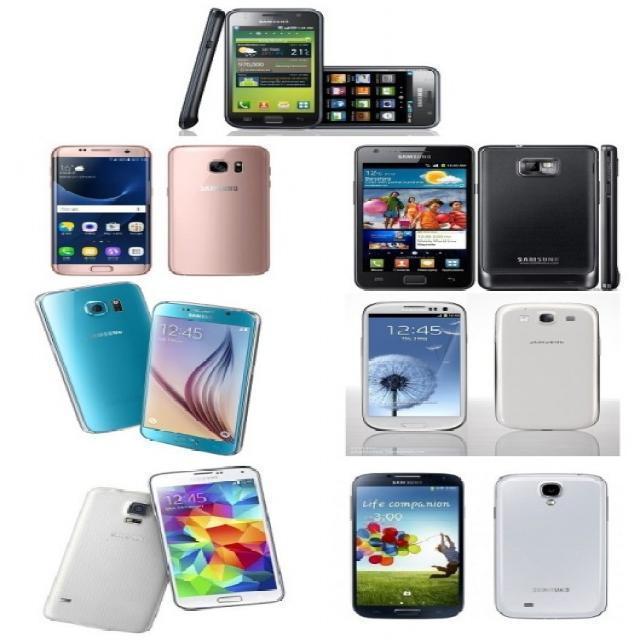phone: (478, 144, 600, 290), (494, 474, 608, 618), (168, 145, 272, 276), (496, 302, 600, 430)
